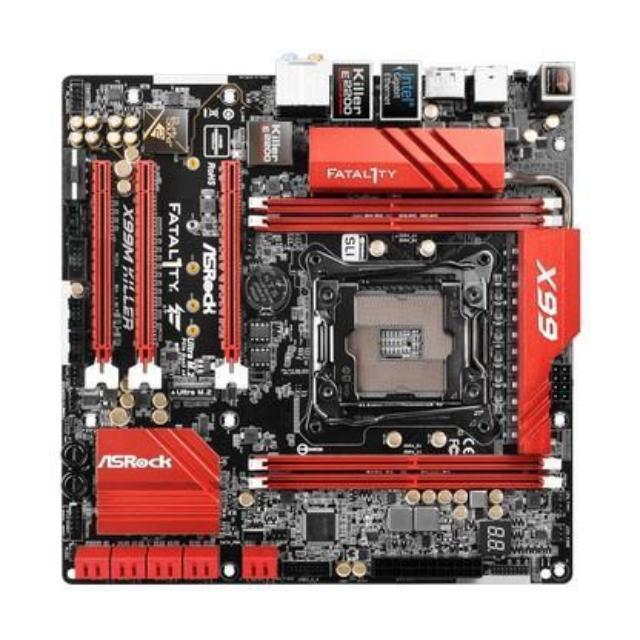Mainboard: (50, 37, 596, 605)
